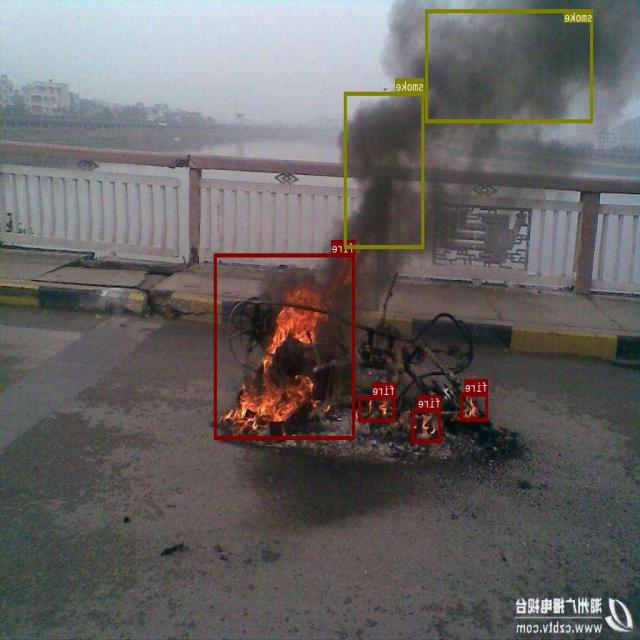fire: (215, 253, 355, 439), (412, 408, 442, 442), (359, 396, 396, 421), (461, 392, 488, 421)
smoke: (426, 9, 593, 122), (345, 91, 424, 248)
